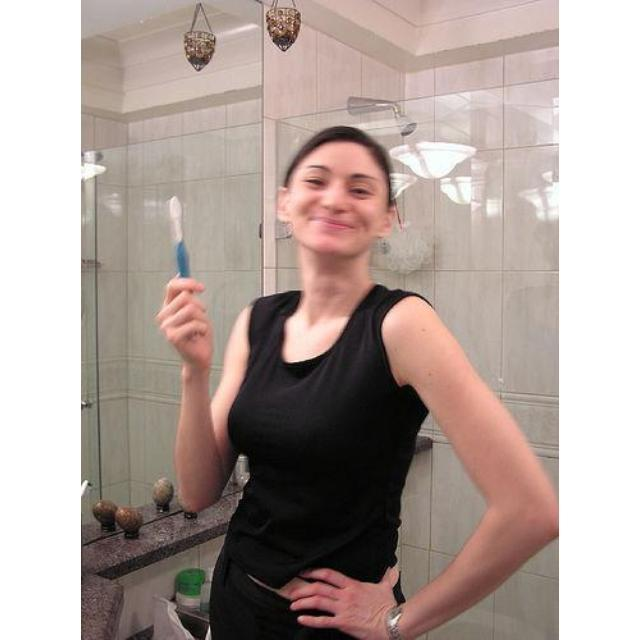toothbrush: (166, 196, 192, 278), (82, 480, 92, 502)
